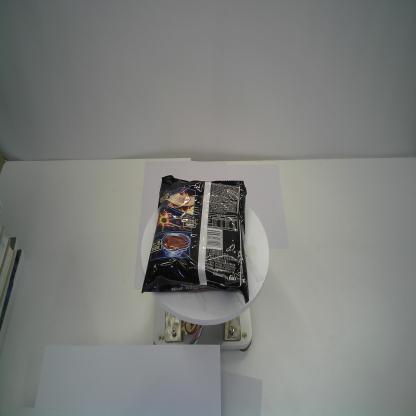Instant Noodles: (142, 173, 250, 306)
